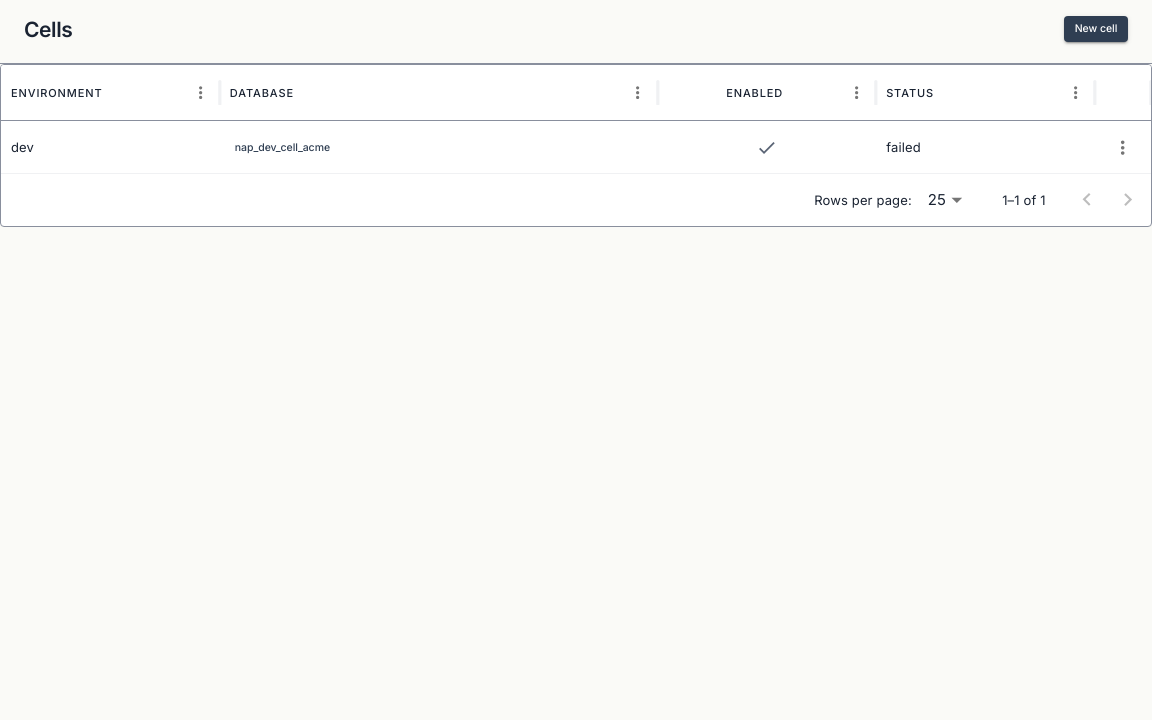
Test case: CellsPage › opens the cell detail from its database name, with the next action and its actions (I0003 AC11, R044)
The width and height of the screenshot is (1152, 720).
Expected: the text "dev" is shown, [11,139,34,155]
Click the button "nap_dev_cell_acme": (282, 148) [230,135,335,162]
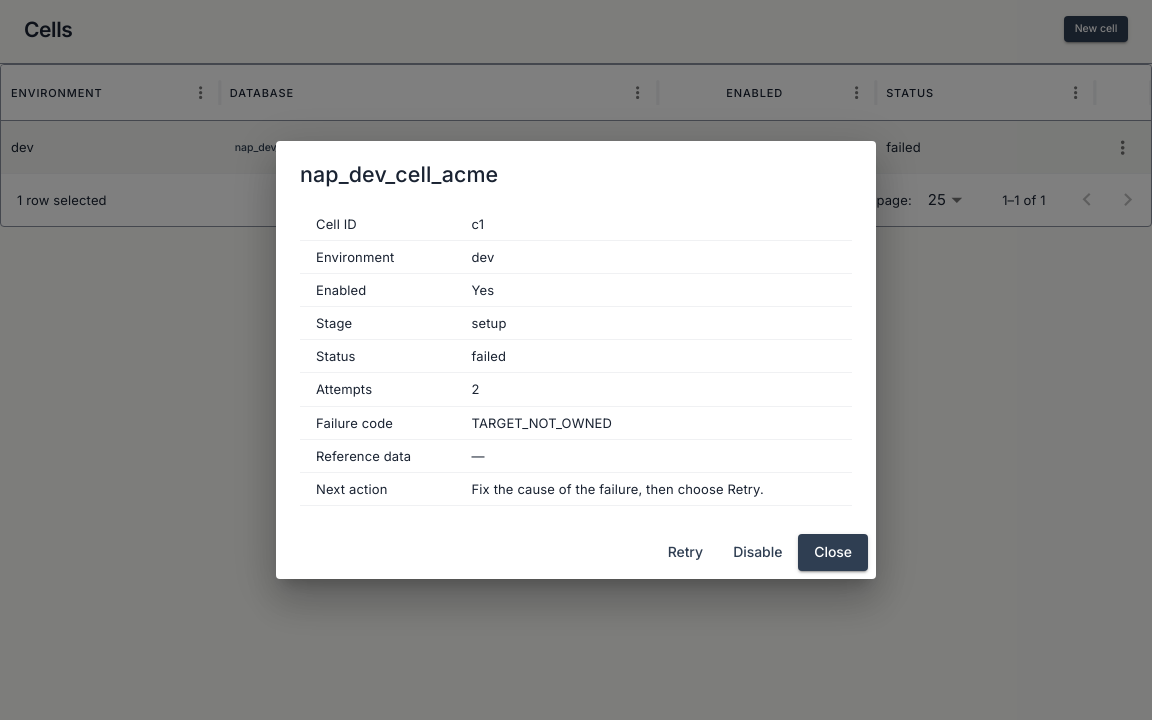
Now the text "setup" is shown, box [456,307,852,340]
Now the button "Retry" is shown, box [653,534,717,570]
Now the button "Disable" is shown, box [725,534,790,570]
